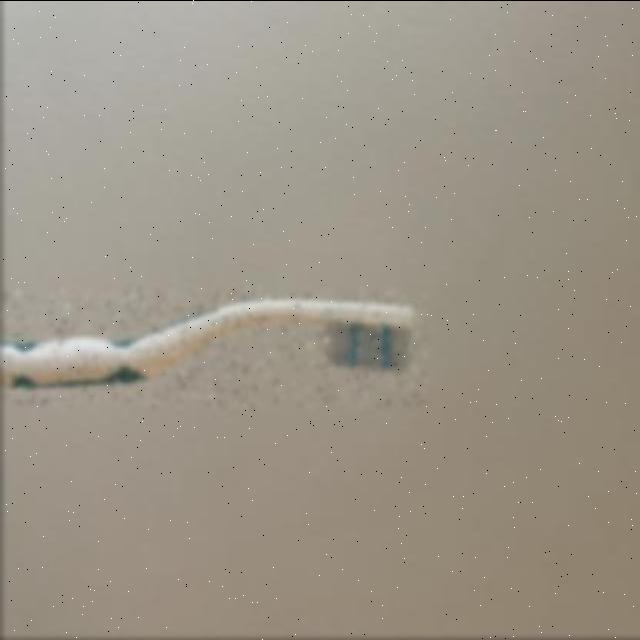toothbrush: (0, 291, 424, 407)
